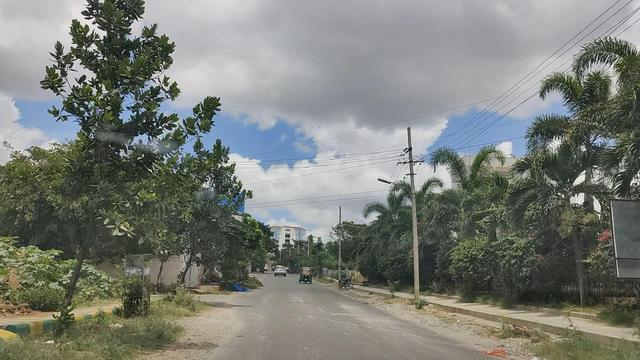RoadDamages: (293, 302, 384, 336)
